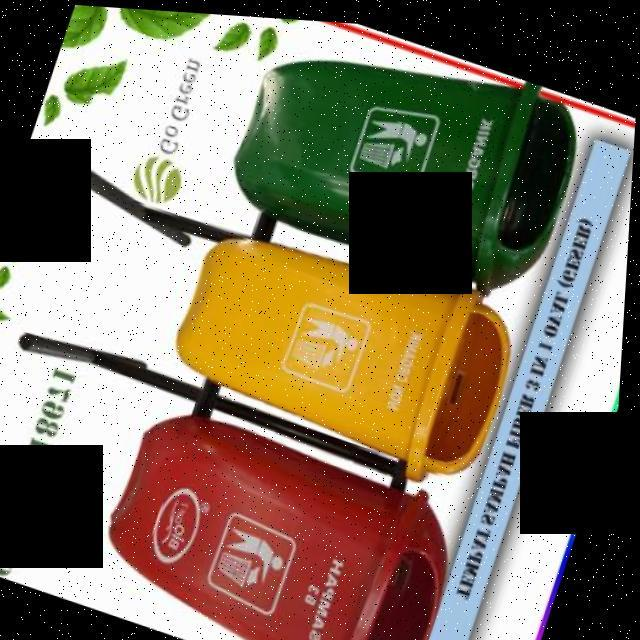bin: (141, 187, 545, 499), (209, 12, 602, 311), (76, 391, 490, 640)
